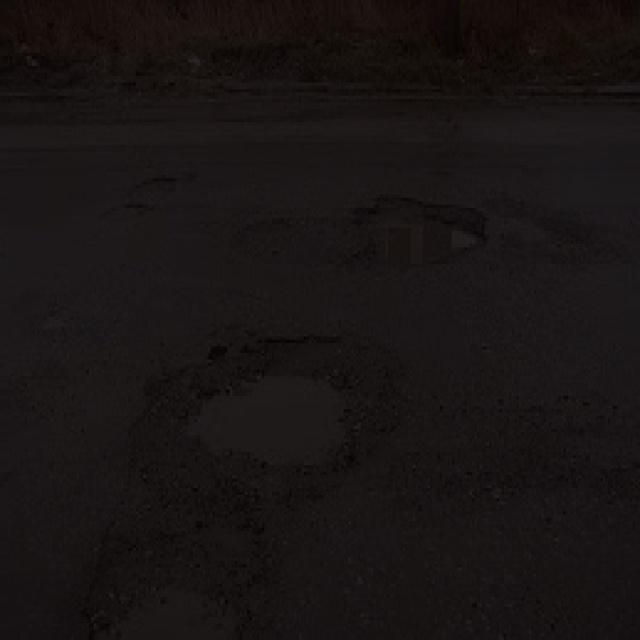Pothole: (160, 322, 402, 499), (87, 521, 266, 640), (336, 176, 486, 269), (91, 165, 207, 226)
